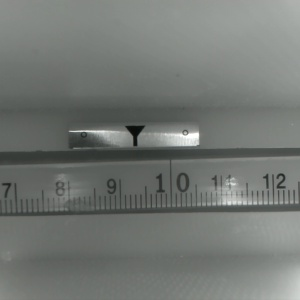0: (175, 172, 189, 192)
1: (155, 172, 164, 193), (262, 174, 268, 189), (210, 175, 216, 189)
2: (276, 173, 285, 189), (226, 175, 234, 189)
7: (1, 183, 11, 198)
8: (54, 180, 64, 195)
9: (106, 178, 116, 194)
finger: (123, 125, 145, 146)
